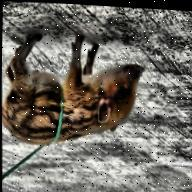boar: (1, 17, 161, 167)
